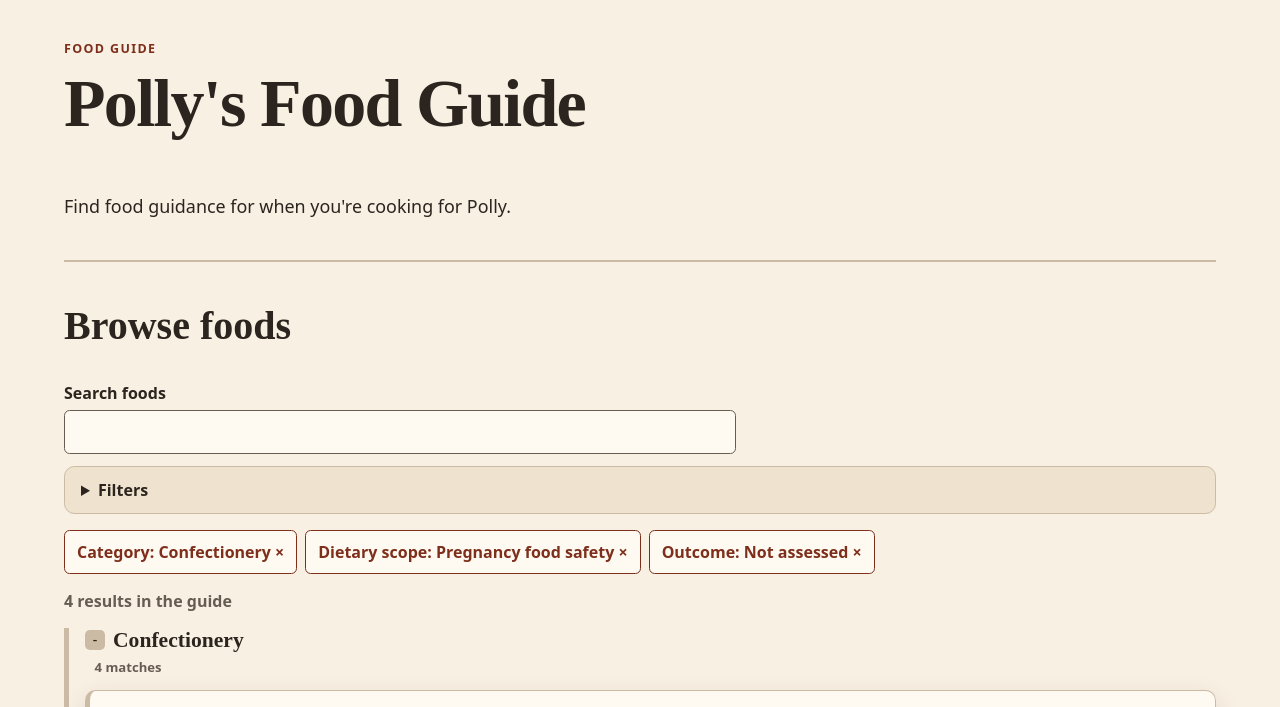
Test: CataloguePage › shows neutral fallback outcomes from a copied URL without treating them as primary controls
Click the button "Outcome: Not assessed" at coordinates (762, 552), box [649, 530, 875, 574]
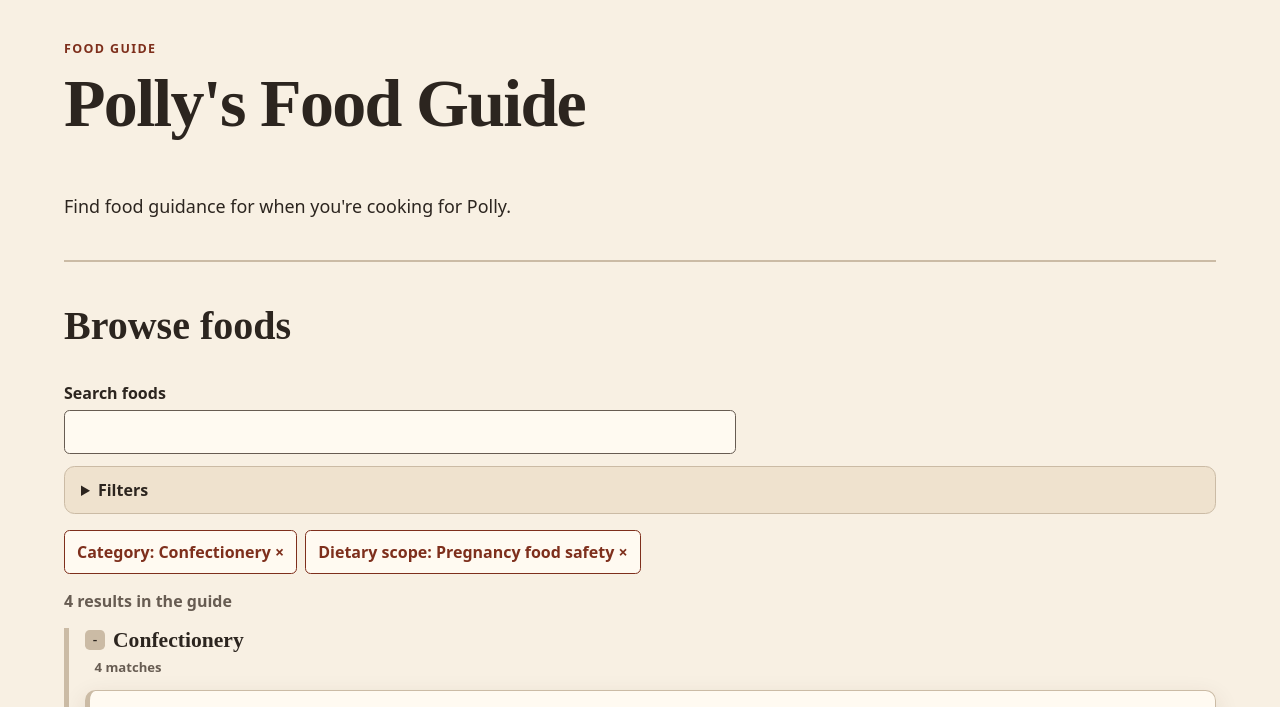
Result: the button "Outcome: Not assessed" is gone
